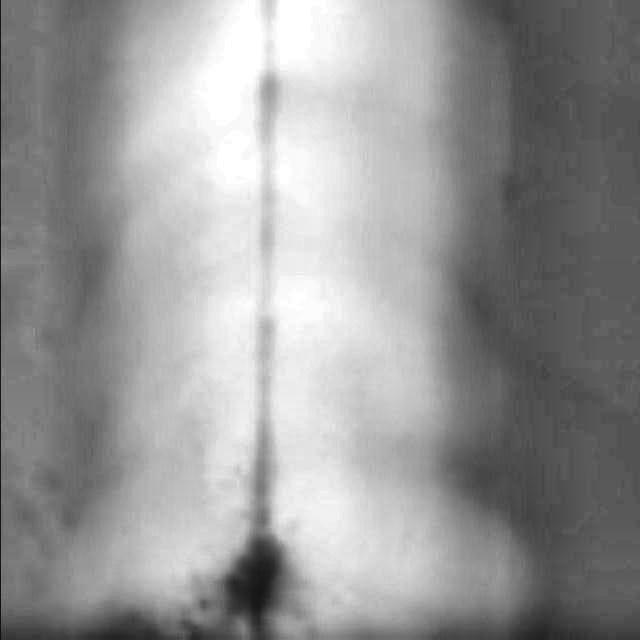LoP-LoF: (234, 5, 293, 533)
Slag: (192, 526, 320, 640)
